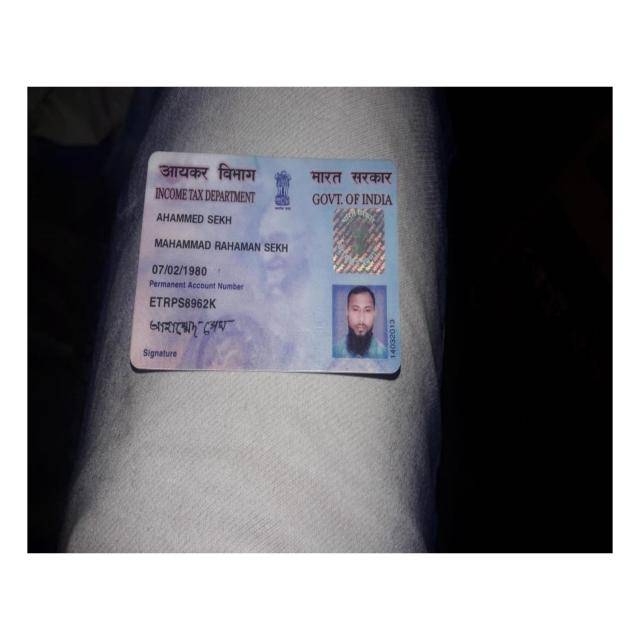pan_card: (131, 152, 401, 377)
